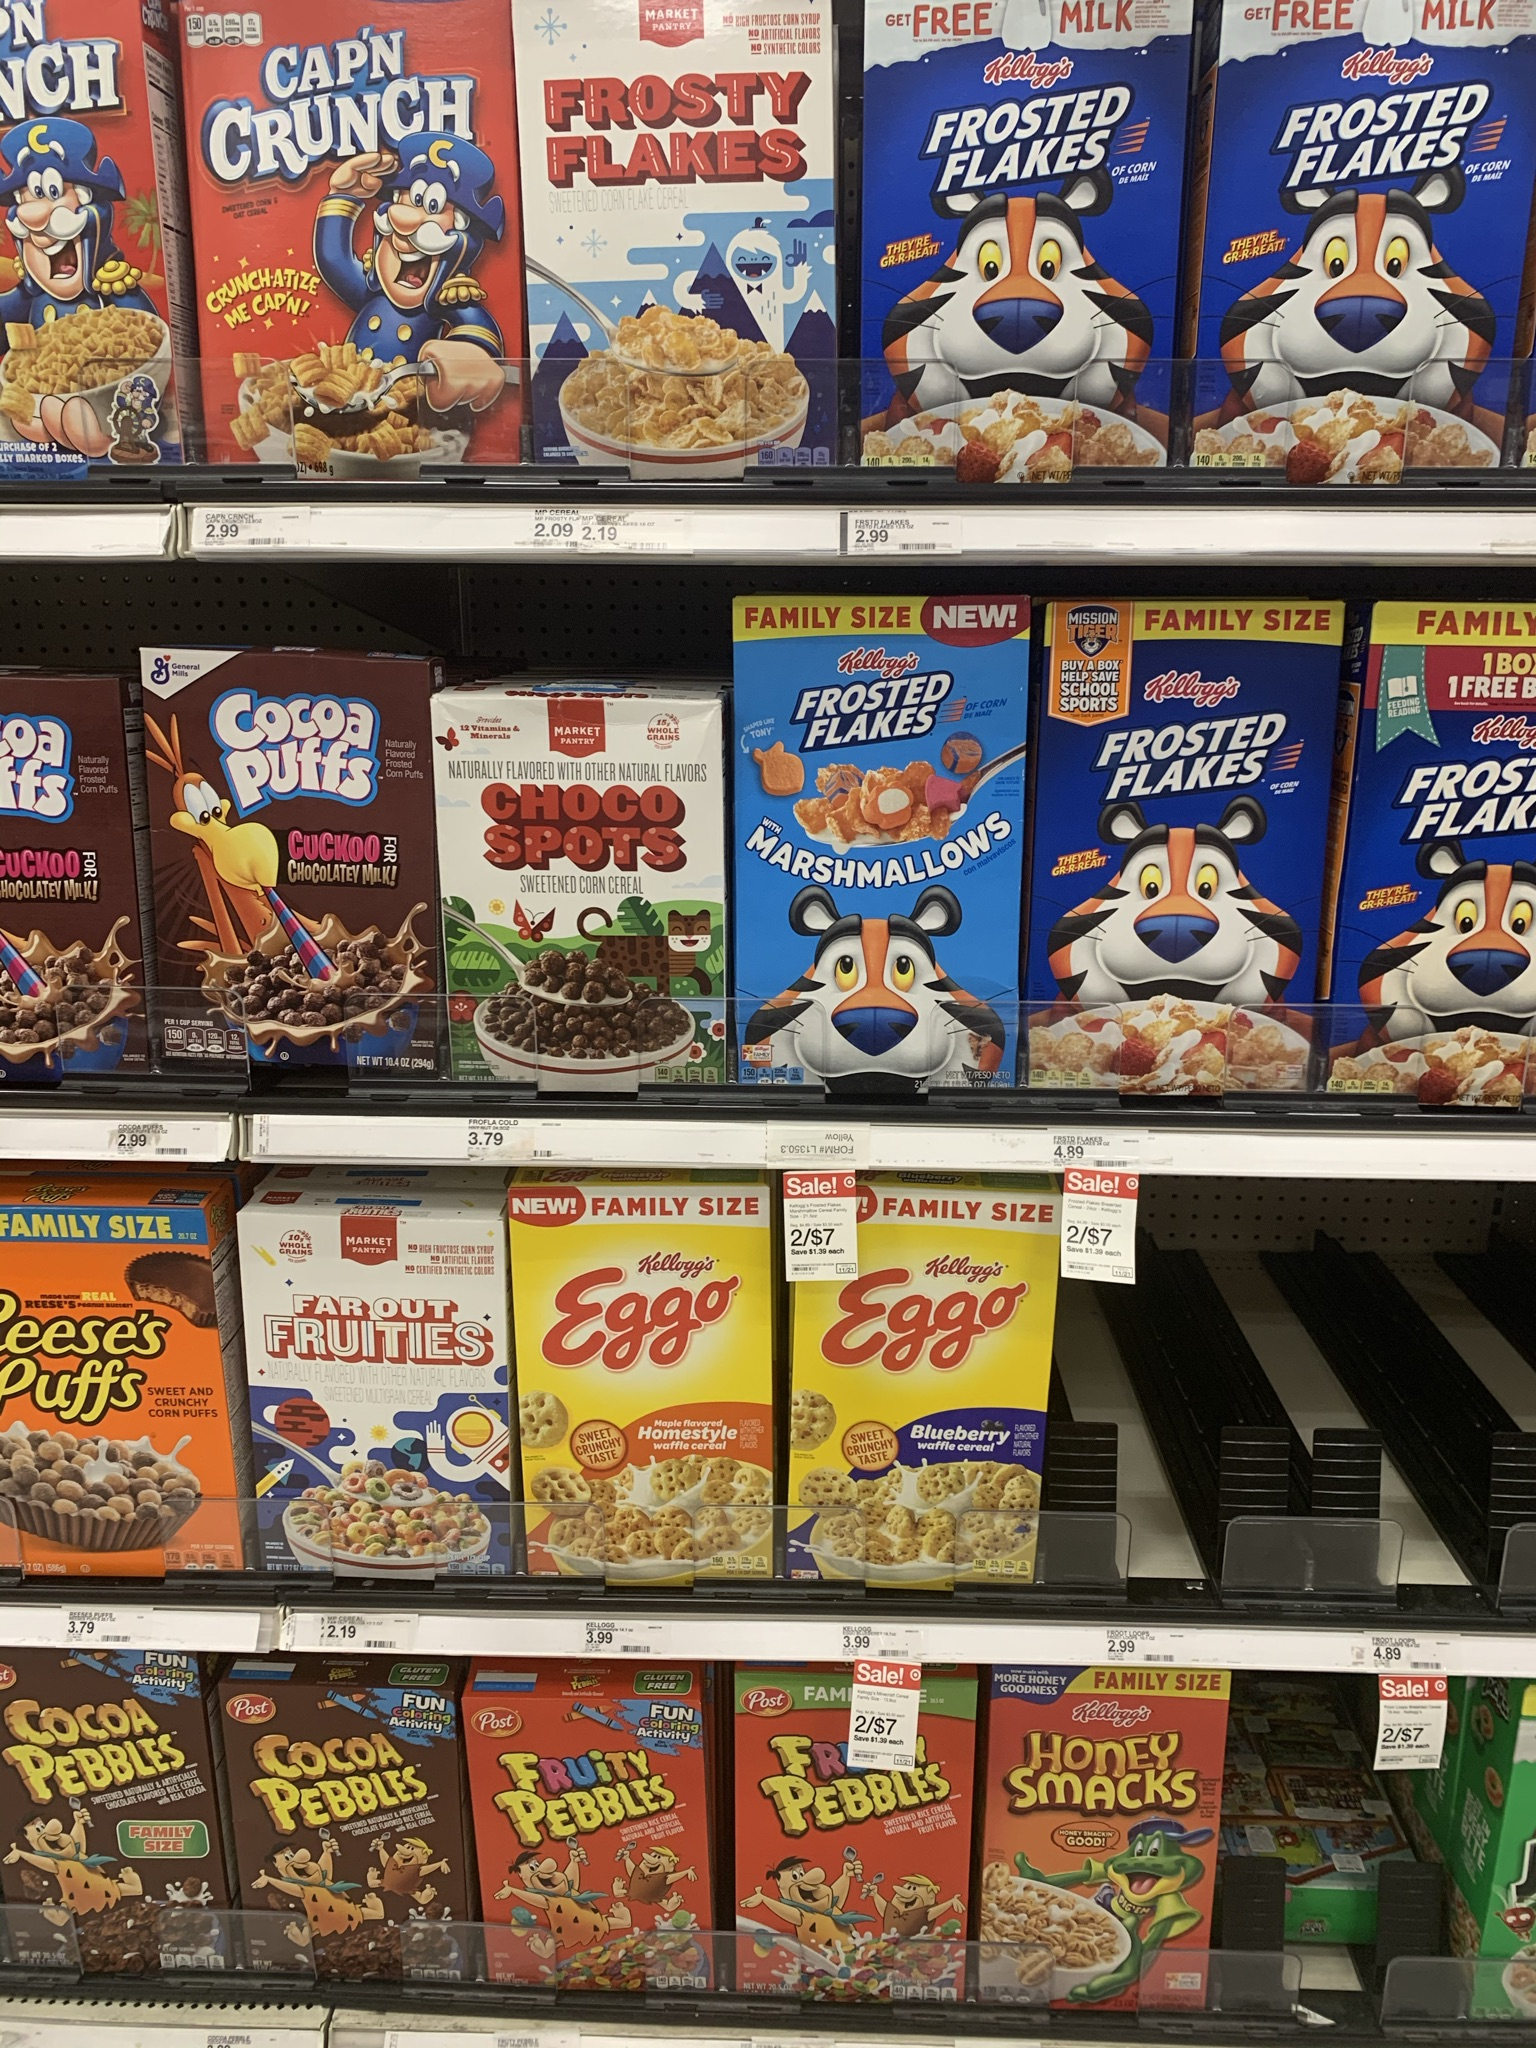cereal: (510, 3, 845, 477), (174, 6, 503, 484), (863, 2, 1179, 484), (721, 597, 1020, 1101), (1218, 8, 1526, 487), (1037, 590, 1318, 1114), (139, 648, 431, 1097), (431, 697, 728, 1098), (244, 1218, 510, 1598), (1354, 585, 1536, 1130), (520, 1201, 770, 1598), (800, 1193, 1033, 1593), (2, 1208, 218, 1614), (728, 1672, 966, 2019), (463, 1688, 715, 2009), (992, 1666, 1212, 2013), (218, 1687, 453, 2000), (2, 3, 148, 487), (2, 1666, 198, 1980), (2, 676, 116, 1087)
